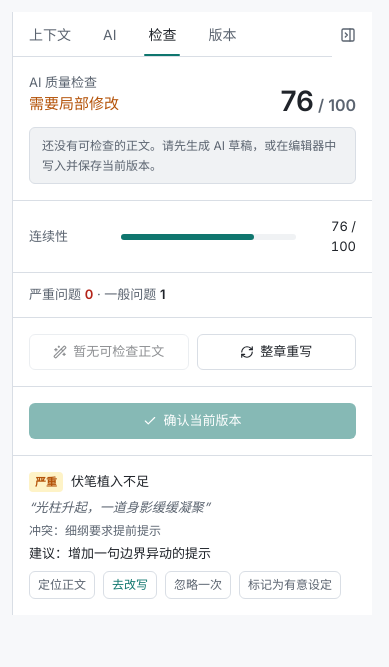
Scenario: RightPanel audit actions › ignores an issue and supports undo
The width and height of the screenshot is (389, 667).
Click the button "忽略一次" at [198, 585], box x1=165 y1=571 x2=231 y2=599
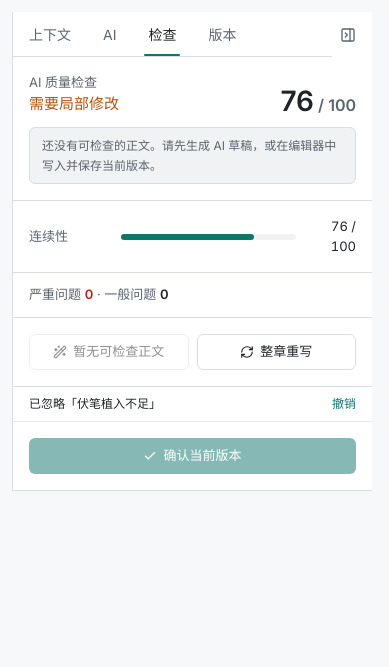
Result: the text "已忽略" is shown at x1=29 y1=396 x2=161 y2=410
Result: the text "光柱升起，一道身影缓缓凝聚" is gone
Click the button "撤销" at [344, 404], box x1=332 y1=394 x2=356 y2=412
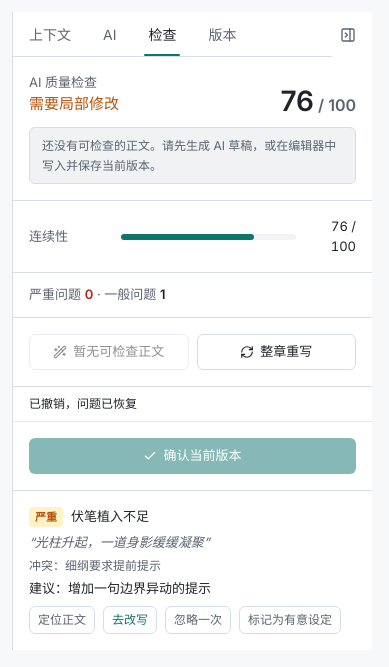
Result: the text "光柱升起，一道身影缓缓凝聚" is shown at x1=35 y1=534 x2=204 y2=550
Result: the text "已撤销" is shown at x1=29 y1=396 x2=137 y2=410
